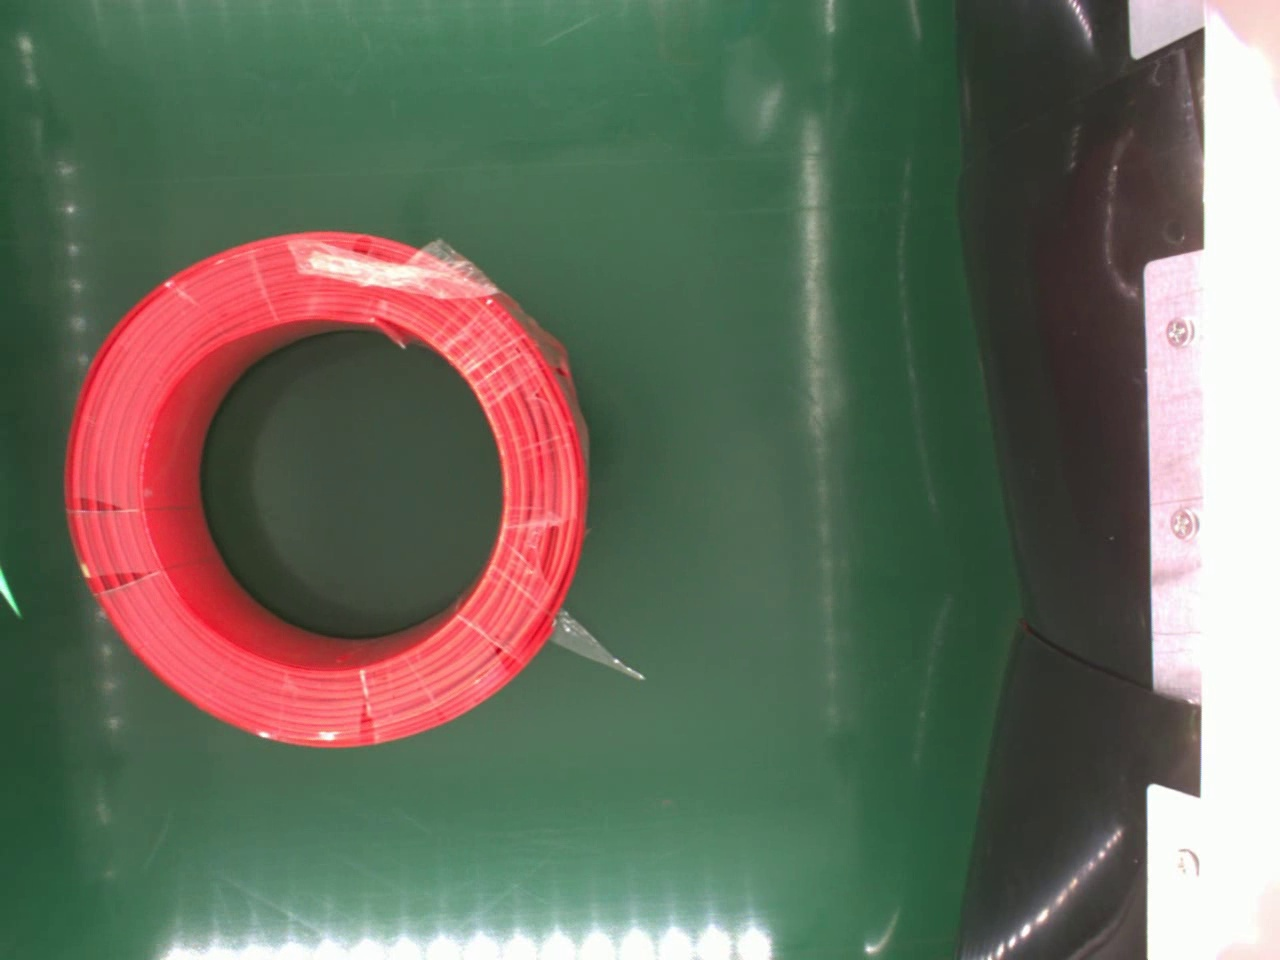red: (63, 231, 588, 748)
